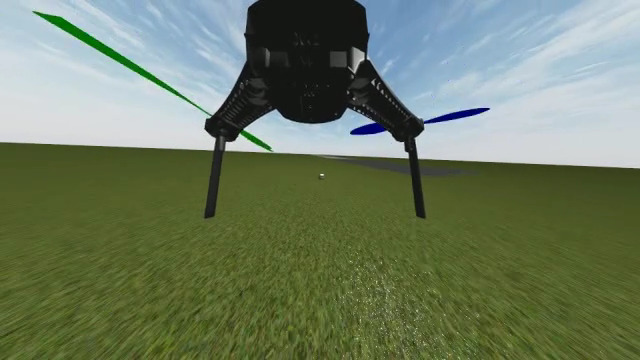Car: (318, 173, 325, 179)
